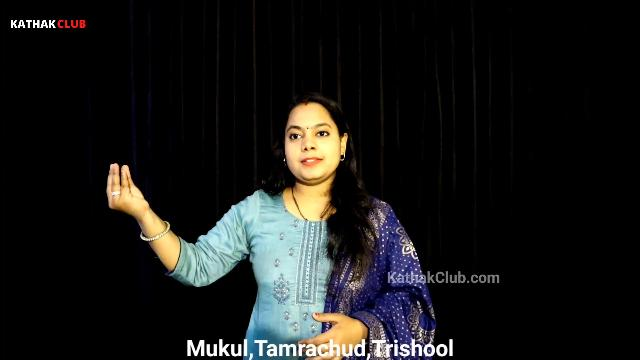mukul: (94, 151, 162, 233)
